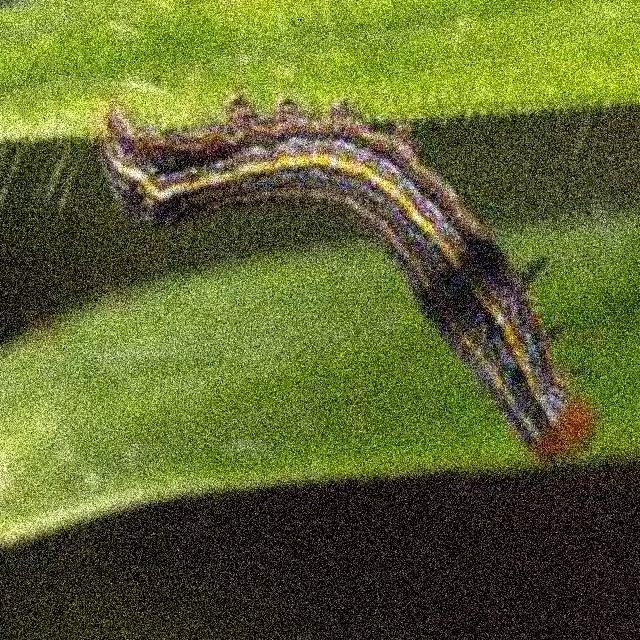worm: (100, 92, 575, 455)
